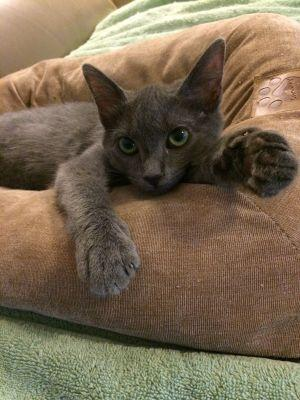rblue: (67, 18, 235, 205)
